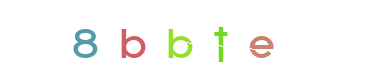8: (45, 0, 125, 80)
B: (127, 0, 207, 80), (143, 0, 223, 80)
E: (154, 0, 234, 80)
T: (152, 0, 232, 80)
